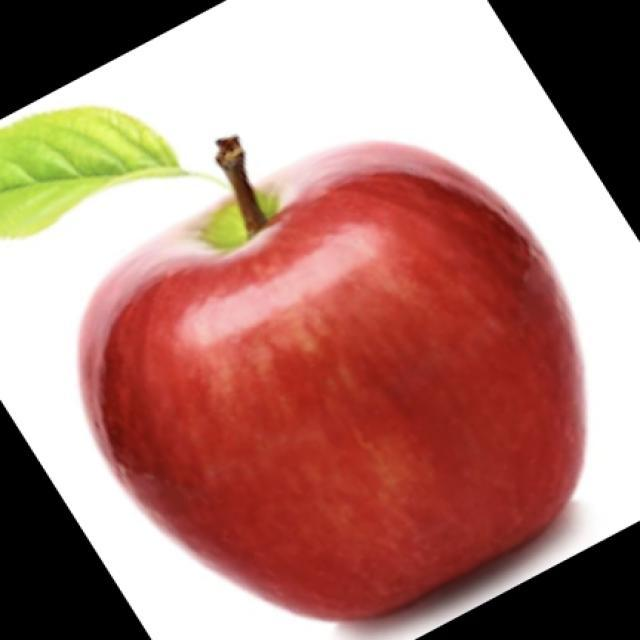Fresh Apple: (80, 138, 590, 620)
